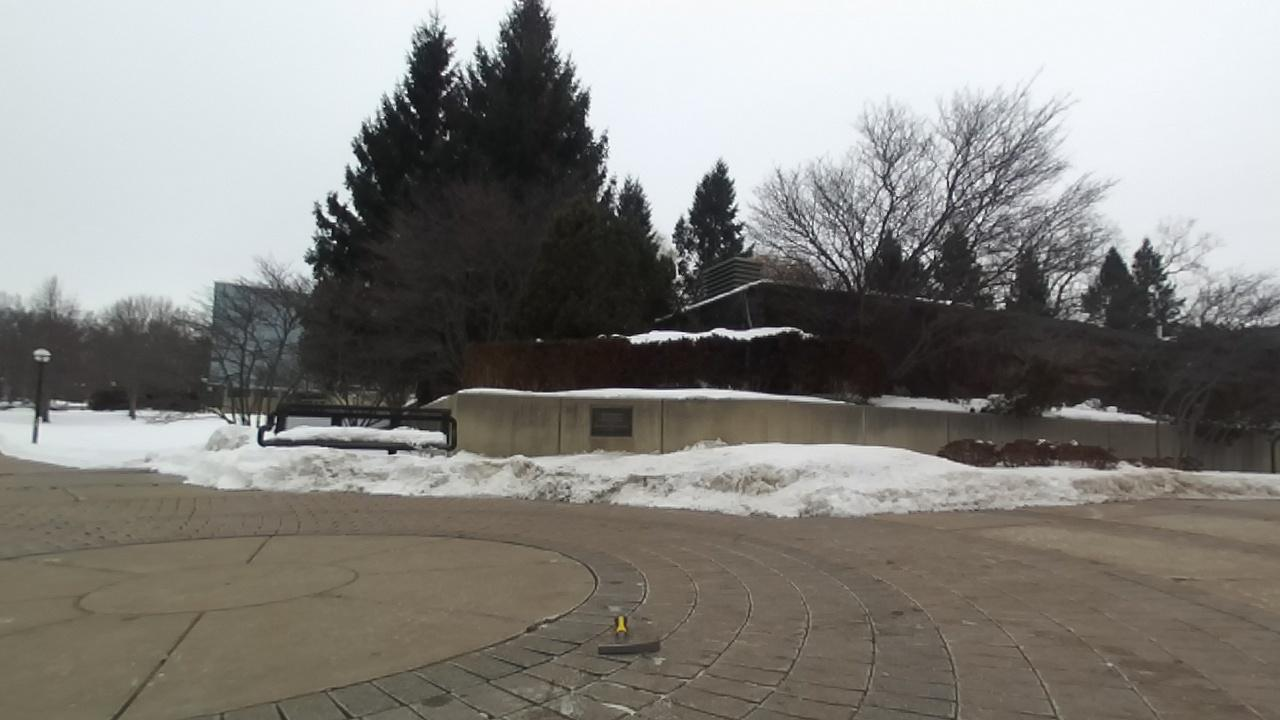pick: (597, 617, 659, 654)
